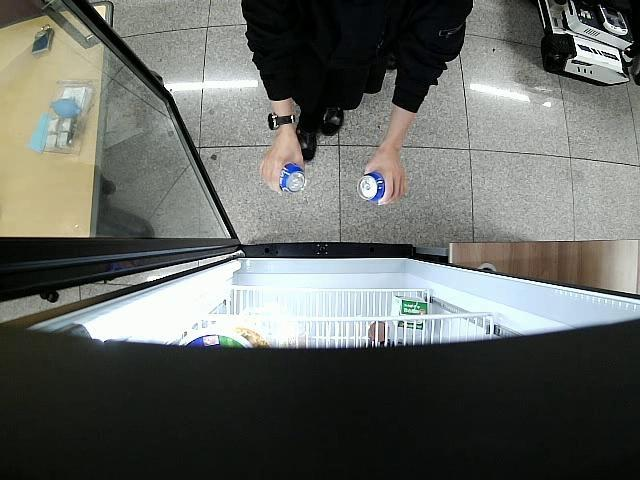13_pocariSweat: (354, 172, 387, 204), (280, 164, 308, 194)
